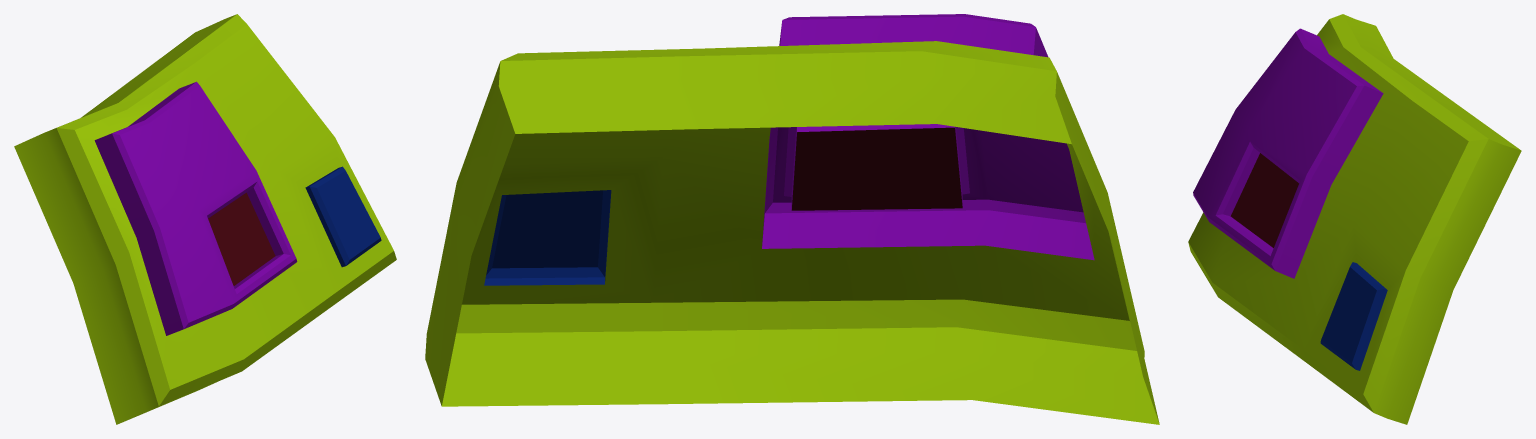
File: OBJ_Module_1.fbx
3 renders of one model, left to right at view 1: azimuth 30°, elevation 25°; view 2: azimuth 150°, elevation 25°; view 3: azimuth 270°, elevation 25°, orthographic. The views are drawn at different scales.
Parts seen in each view (by area): view 1: Box001; view 2: Box001; view 3: Box001.
Part boxes in pixels (x1,y1,x2,y2): Box001: (14,14,396,424); Box001: (425,14,1159,424); Box001: (1188,14,1521,424).
Size of the model in its own units: 6.23 by 4.01 by 4.77.
